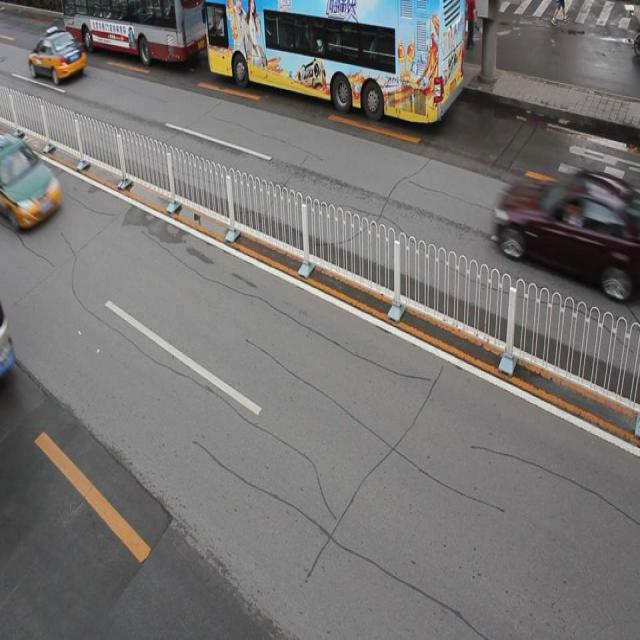car: (497, 166, 640, 294), (1, 135, 62, 228), (29, 28, 87, 82)
van: (205, 1, 465, 122), (63, 1, 206, 62)
